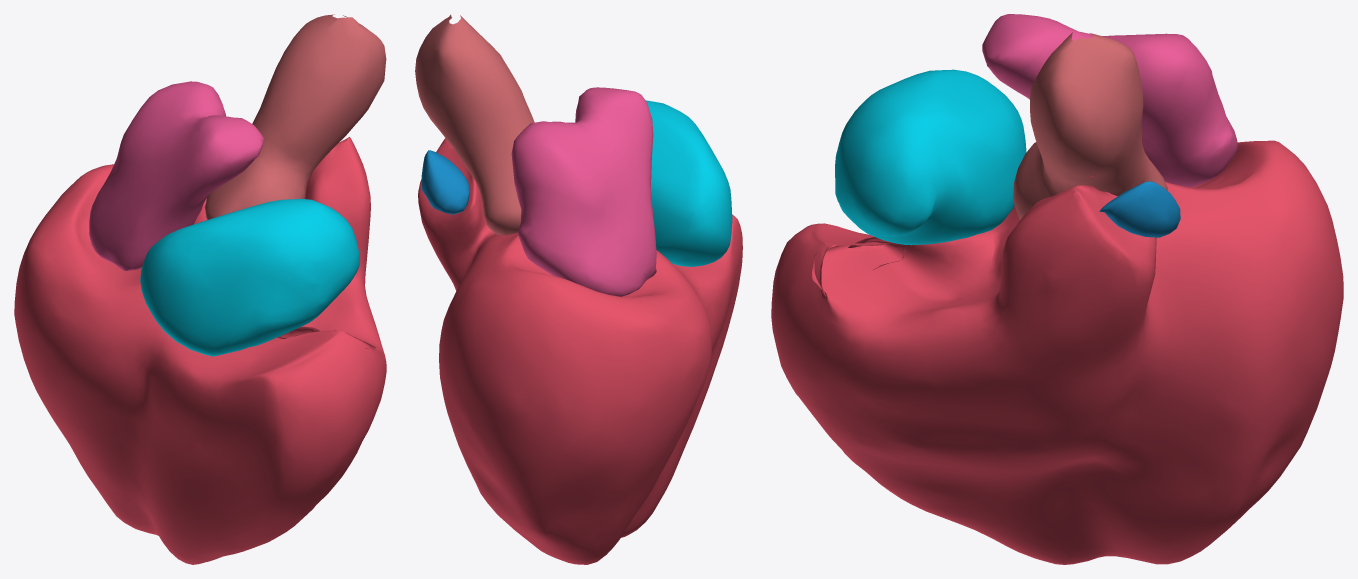
The model's file is frame_48.glb.
3 views of the same model, side by side, from view 1: azimuth 30°, elevation 25°; view 2: azimuth 150°, elevation 25°; view 3: azimuth 270°, elevation 25° (orthographic). The views are drawn at different scales.
Visible parts, largest first — view 1: Renderer Node; view 2: Renderer Node; view 3: Renderer Node.
Boxes of the visible parts, bbox=[...] form: Renderer Node: bbox=[14, 14, 386, 564]; Renderer Node: bbox=[415, 14, 742, 564]; Renderer Node: bbox=[771, 14, 1343, 564].
Bounding box in the file's own units: 106 × 161 × 134.
